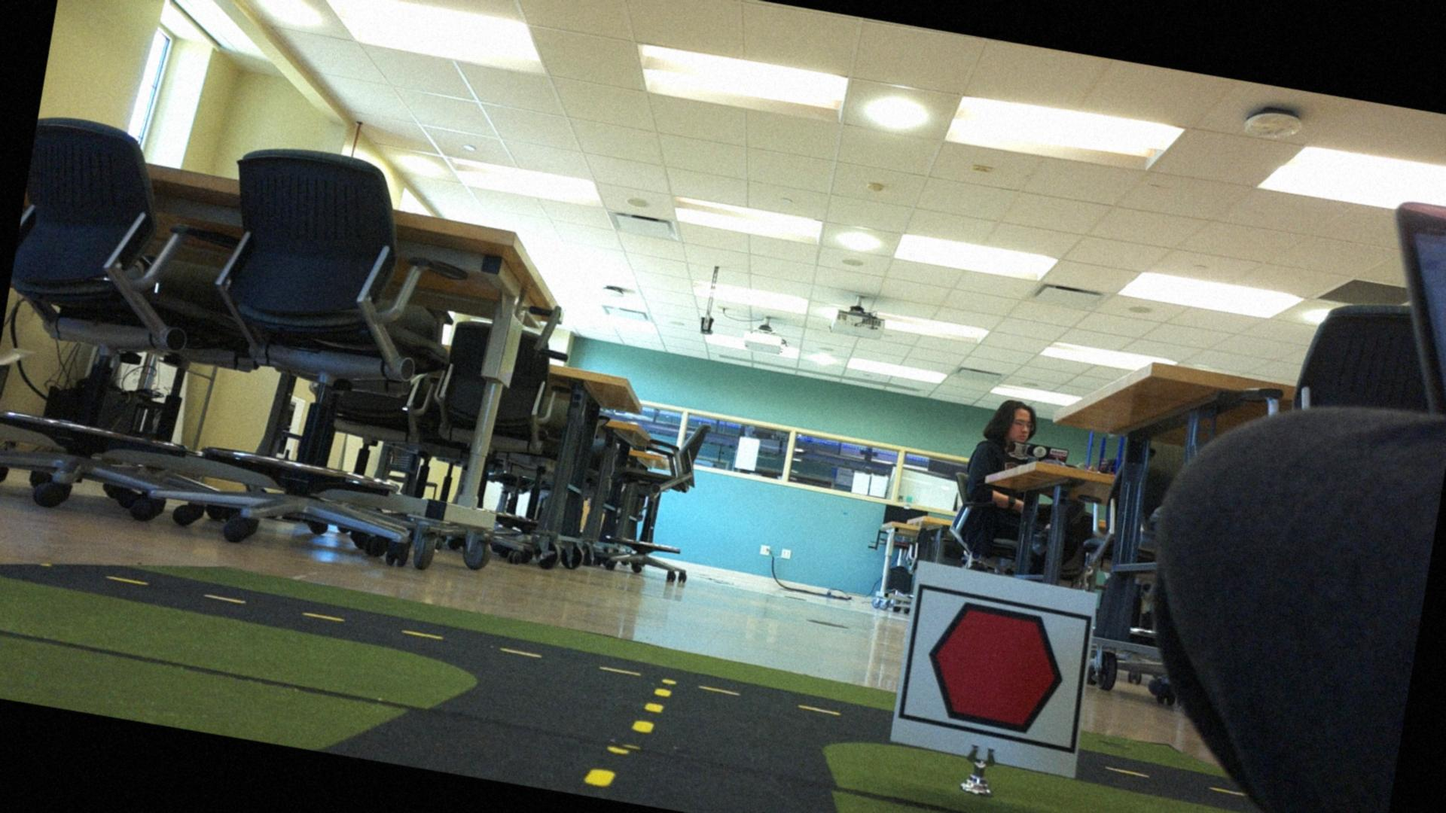stop: (905, 589, 1084, 743)
yellowline: (584, 668, 673, 800)
